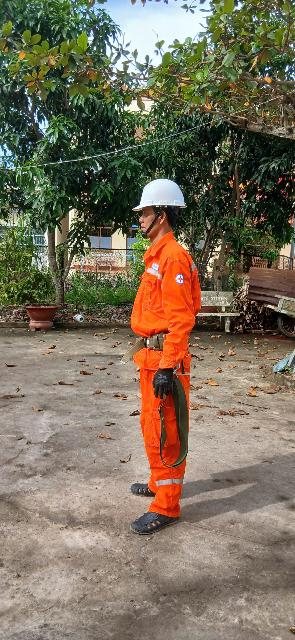gloves: (134, 361, 192, 405)
harness: (119, 323, 194, 353)
helmet: (126, 167, 197, 210)
shoes: (128, 495, 205, 542), (127, 480, 182, 502)
